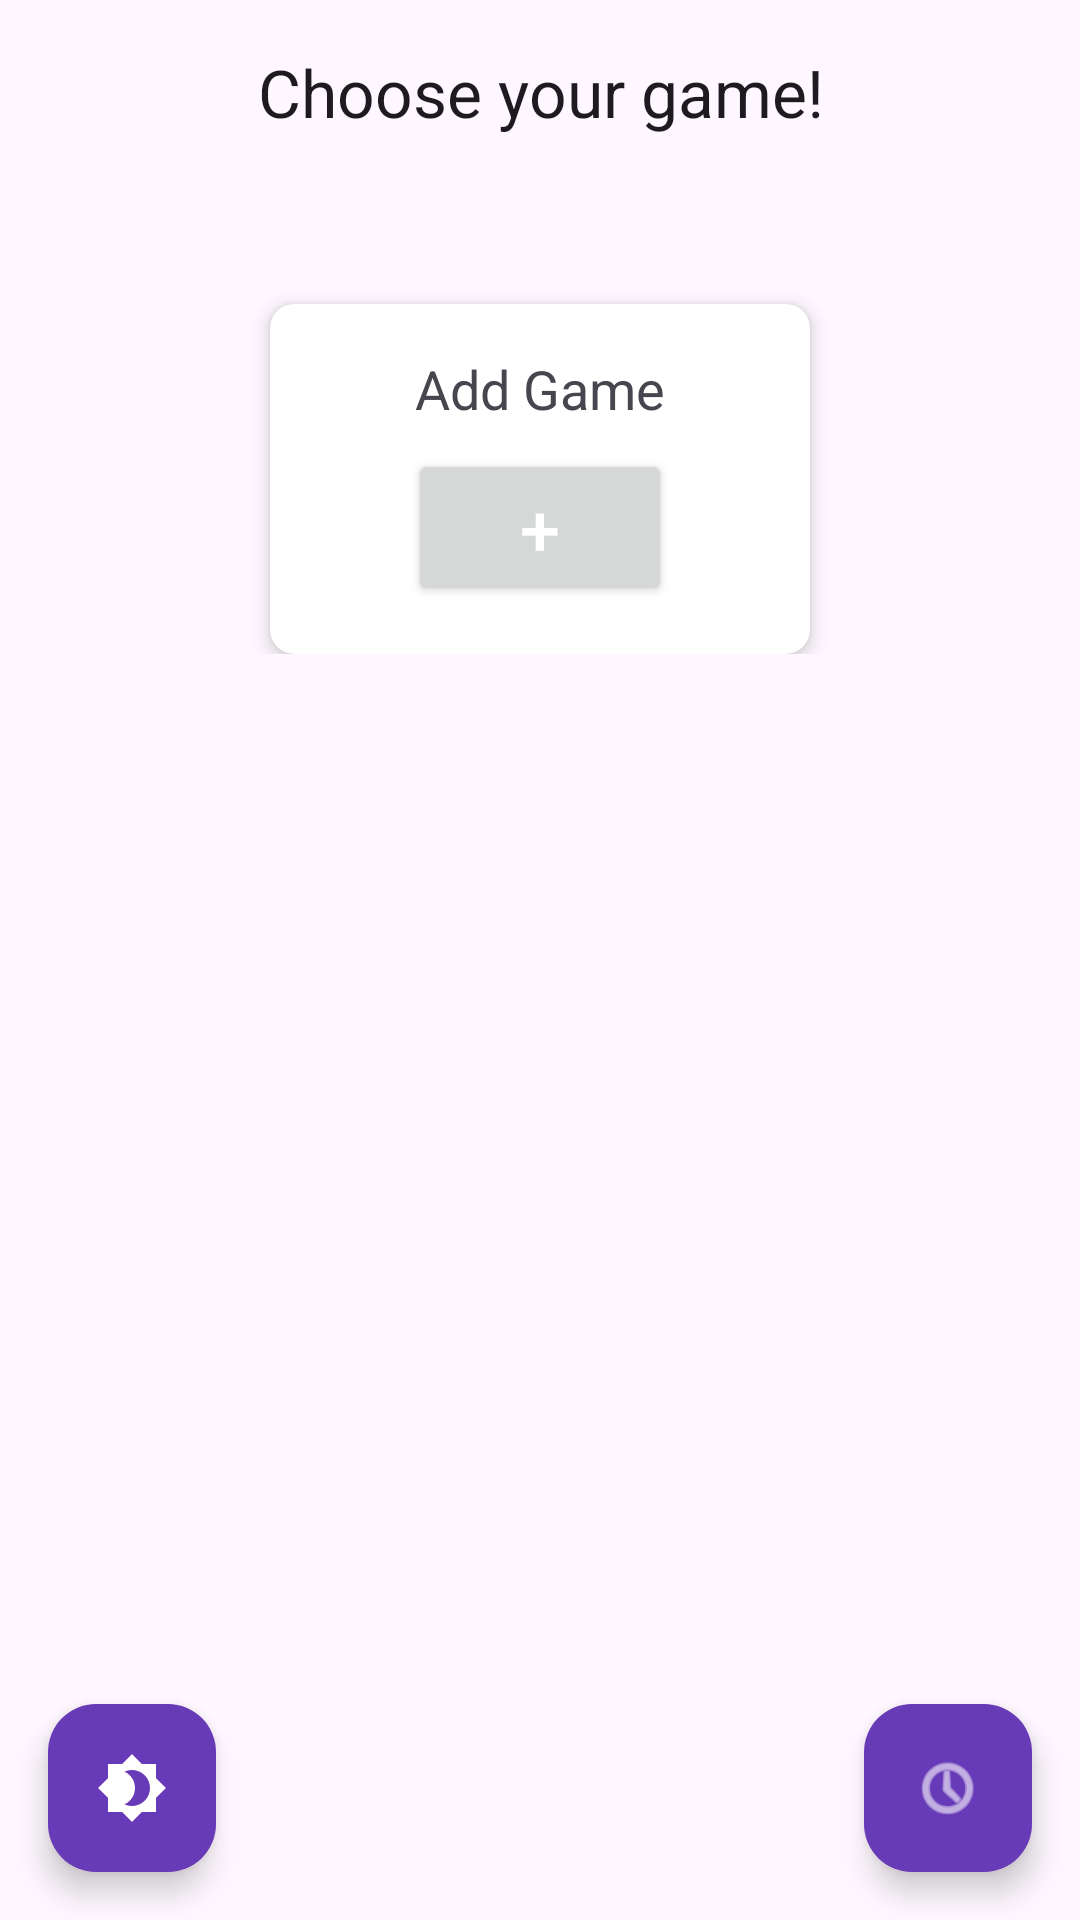

Icon bounding boxes for this 1080x1920 phone screenshot, format (x1, y1, x2, y2):
Game History: (864, 1704, 1032, 1872)
Switch Theme: (48, 1704, 216, 1872)
